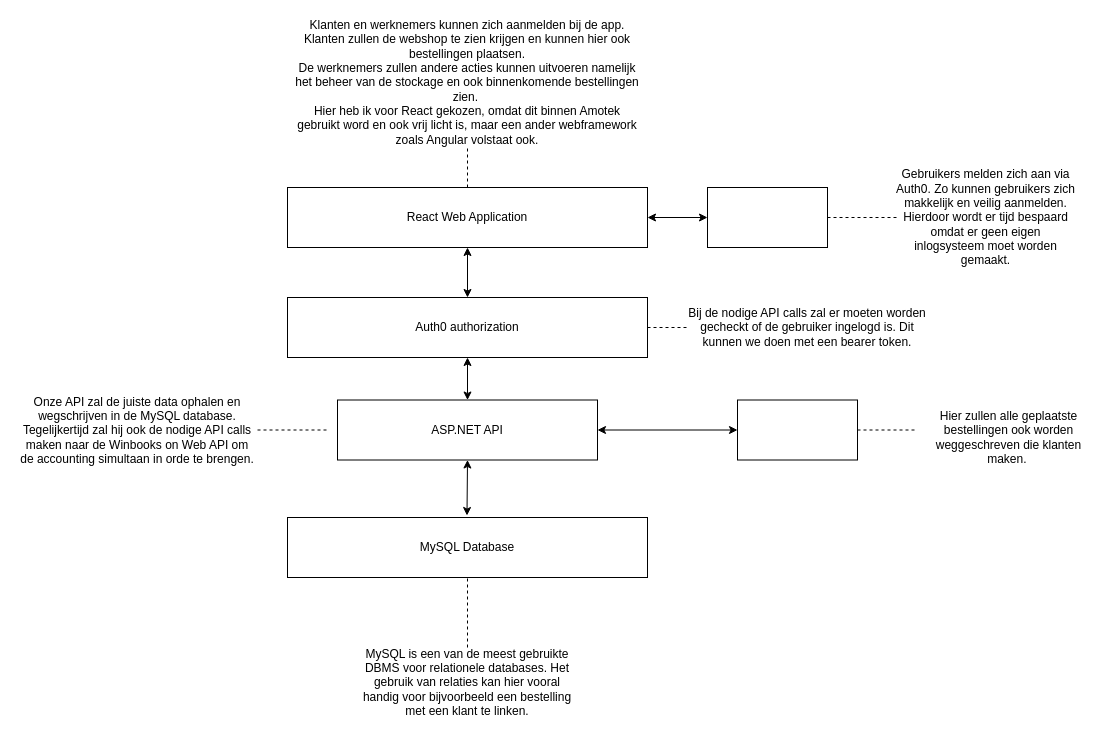
Image size: 1117x735. Some labels were removed from this diagram. The centre of each missing label's shape, as x and y in pixels:
Auth0 authentication: the point at 767,217
Winbooks on Web: the point at 797,429
